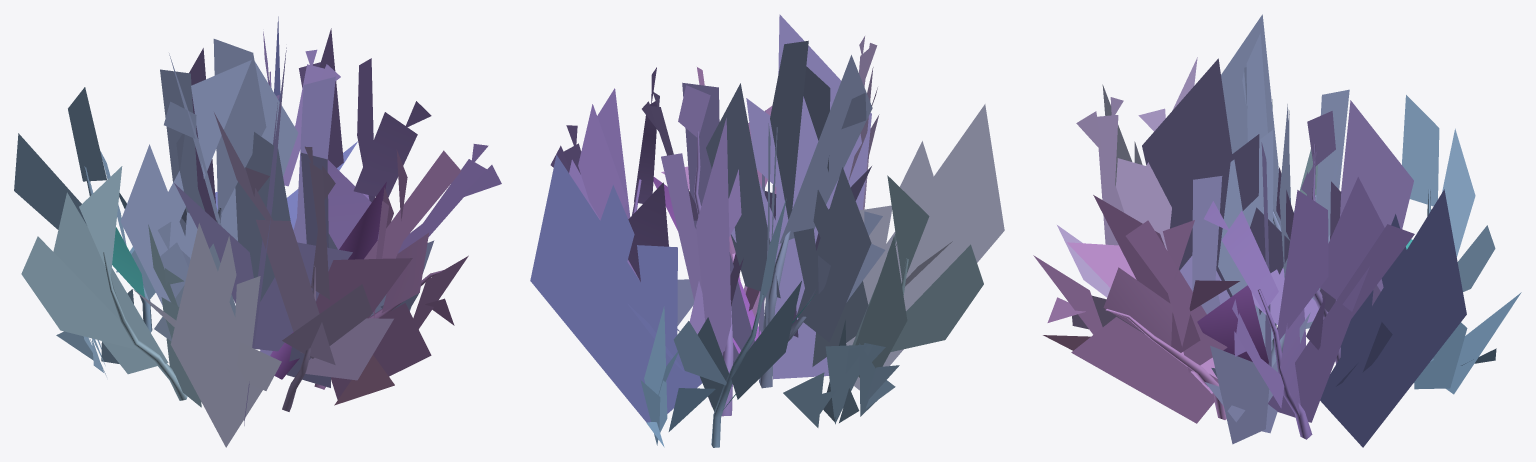
3 renders of one model, left to right at view 1: azimuth 30°, elevation 25°; view 2: azimuth 150°, elevation 25°; view 3: azimuth 270°, elevation 25°, orthographic. The views are drawn at different scales.
Visible parts, largest first — view 1: SM_BS_WitheredBush_180cm_HD; view 2: SM_BS_WitheredBush_180cm_HD; view 3: SM_BS_WitheredBush_180cm_HD.
Boxes of the visible parts, <box> form: SM_BS_WitheredBush_180cm_HD: <box>14,16,501,447</box>; SM_BS_WitheredBush_180cm_HD: <box>530,14,1004,447</box>; SM_BS_WitheredBush_180cm_HD: <box>1033,14,1521,447</box>.
Bounding box in the file's own units: 80.91 × 84.64 × 66.74.
